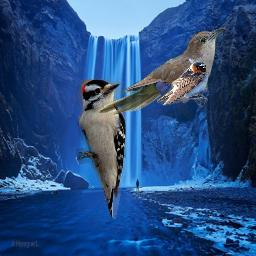Cuckoo: (96, 27, 226, 115)
Swallow: (157, 61, 208, 106)
Woodpecker: (76, 79, 126, 219)
